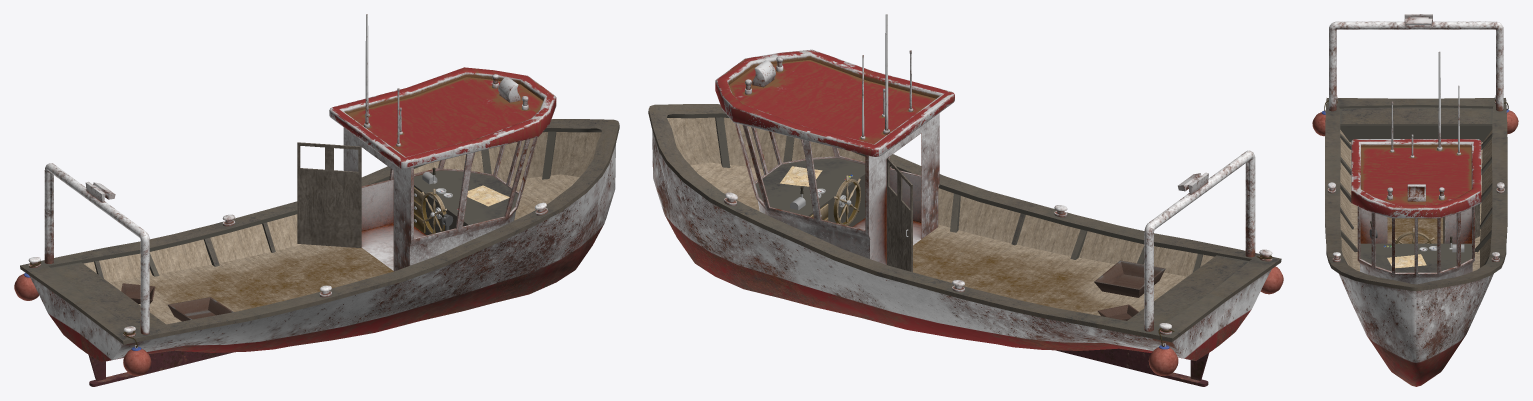
3 views of the same model, side by side, from view 1: azimuth 30°, elevation 25°; view 2: azimuth 150°, elevation 25°; view 3: azimuth 270°, elevation 25° (orthographic). The views are drawn at different scales.
Parts seen in each view (by area): view 1: boat, boat_cabin; view 2: boat, boat_cabin; view 3: boat, boat_cabin.
Boxes of the visible parts, box(x1,y1,x2,y2) form: boat: box(14, 119, 619, 386); boat_cabin: box(297, 14, 556, 271); boat: box(648, 104, 1283, 386); boat_cabin: box(715, 14, 954, 272); boat: box(1312, 14, 1518, 386); boat_cabin: box(1351, 51, 1481, 284).
Bounding box in the file's own units: 3.33 × 1.73 × 1.24.
2 materials, 2 textured.
